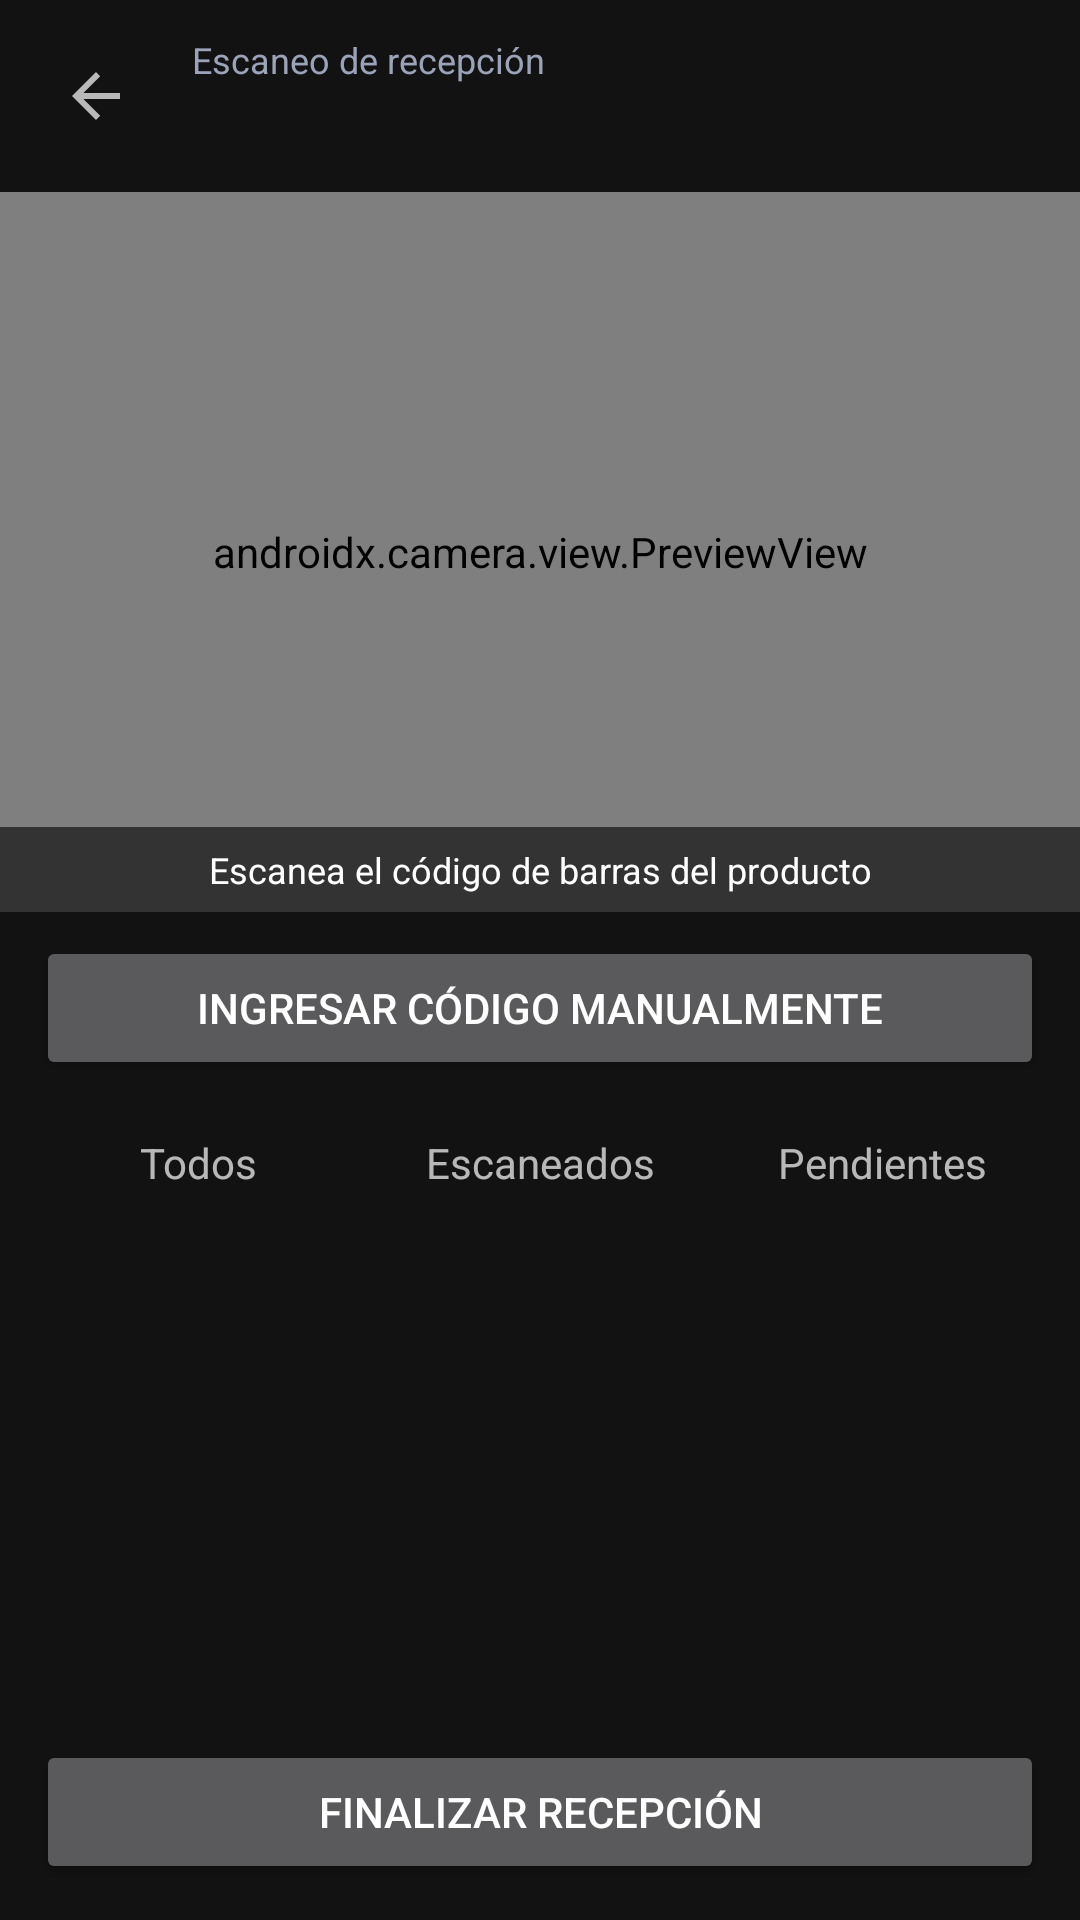

Icons on this 1080px×1920px Android screen, each with the point to tap as (x,y):
Volver: (96,96)
